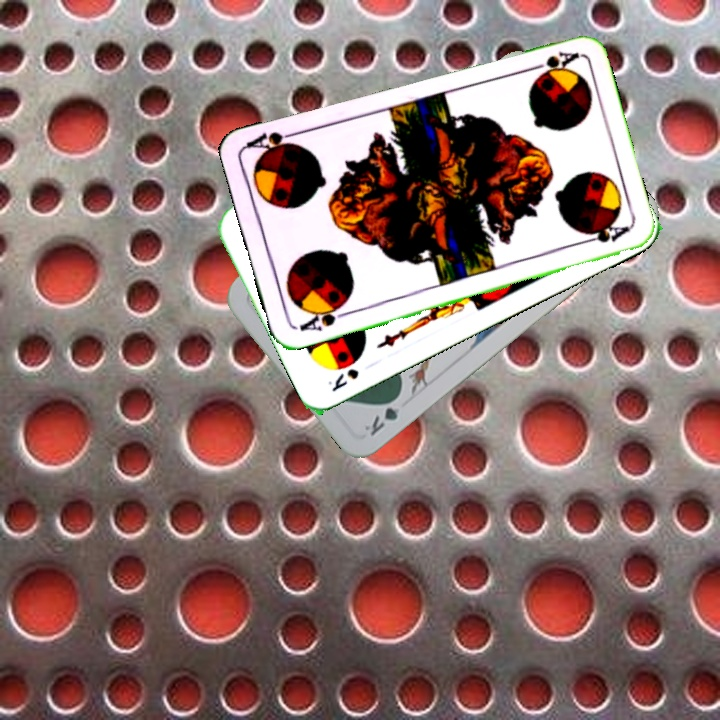GK: (360, 390, 404, 439)
SA: (295, 299, 352, 334), (523, 47, 581, 81)
SK: (324, 364, 362, 395)
